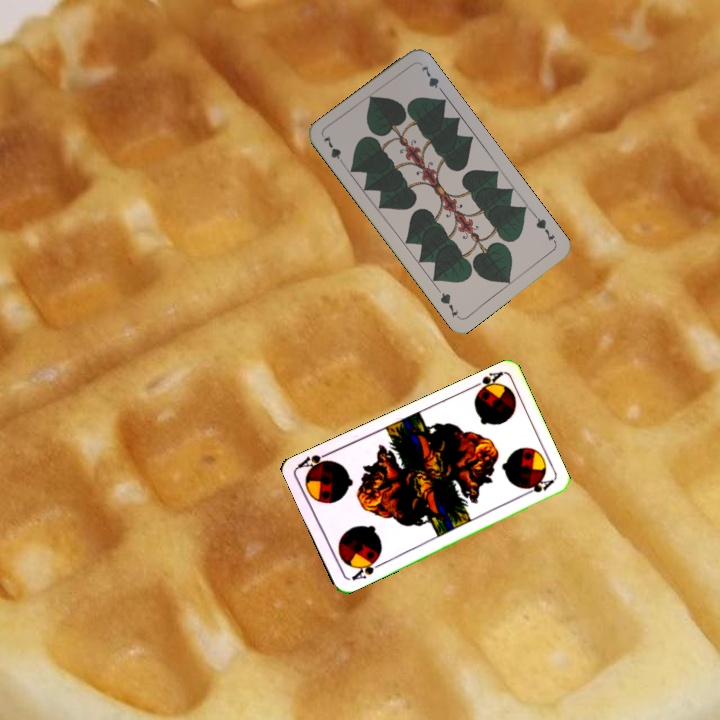G7: (319, 131, 348, 169), (530, 211, 559, 246)
SA: (467, 367, 505, 398), (347, 554, 385, 583)
